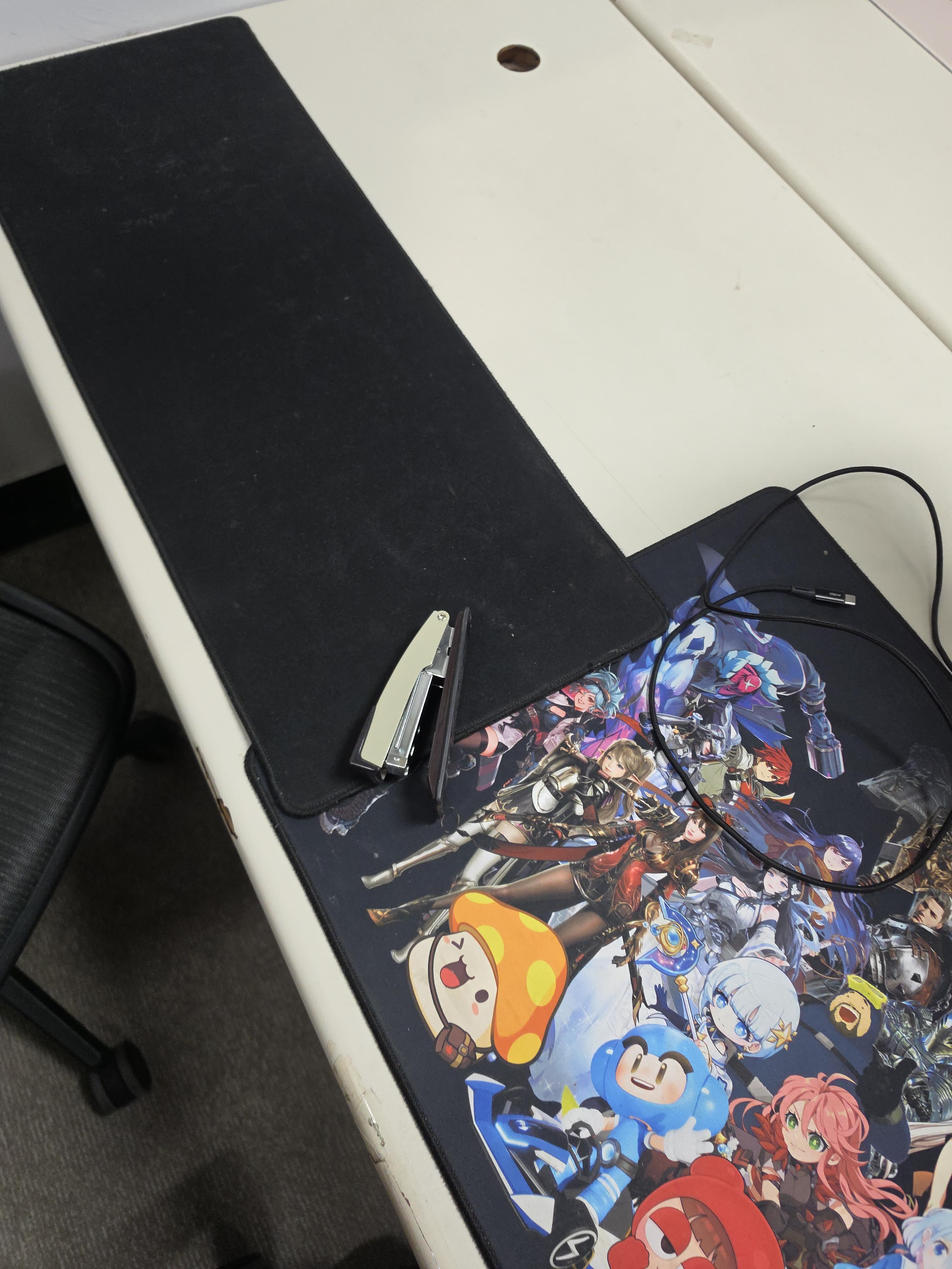stapler: (348, 607, 471, 824)
